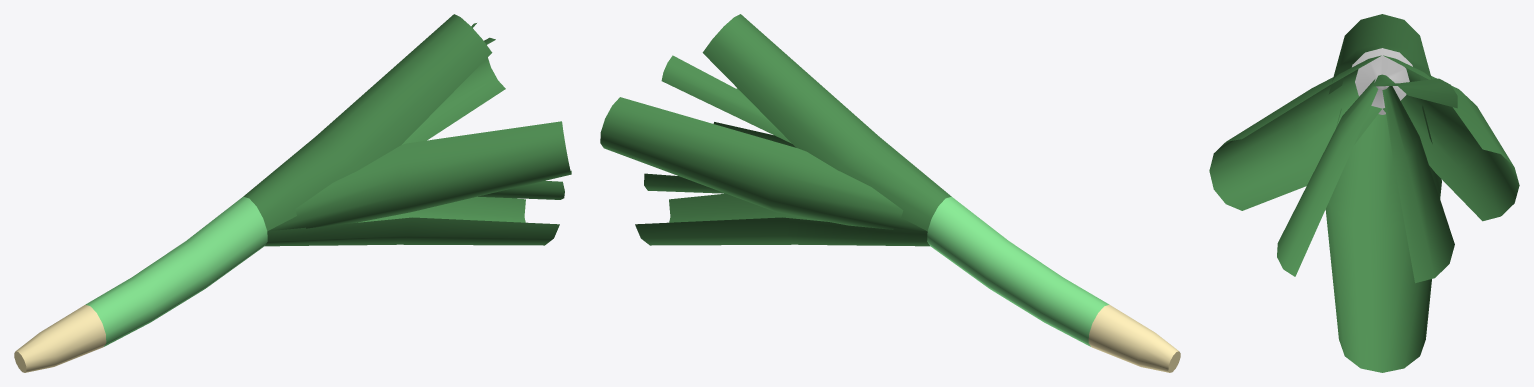
File: Puerro.fbx
3 renders of one model, left to right at view 1: azimuth 30°, elevation 25°; view 2: azimuth 150°, elevation 25°; view 3: azimuth 270°, elevation 25°, orthographic. The views are drawn at different scales.
Visible parts, largest first — view 1: Puerro; view 2: Puerro; view 3: Puerro.
Part boxes in pixels (x1=…): Puerro: x1=14, y1=14, x2=571, y2=372; Puerro: x1=600, y1=14, x2=1180, y2=372; Puerro: x1=1209, y1=14, x2=1519, y2=372.
Size of the model in its own units: 27.05 by 12.18 by 10.8.
